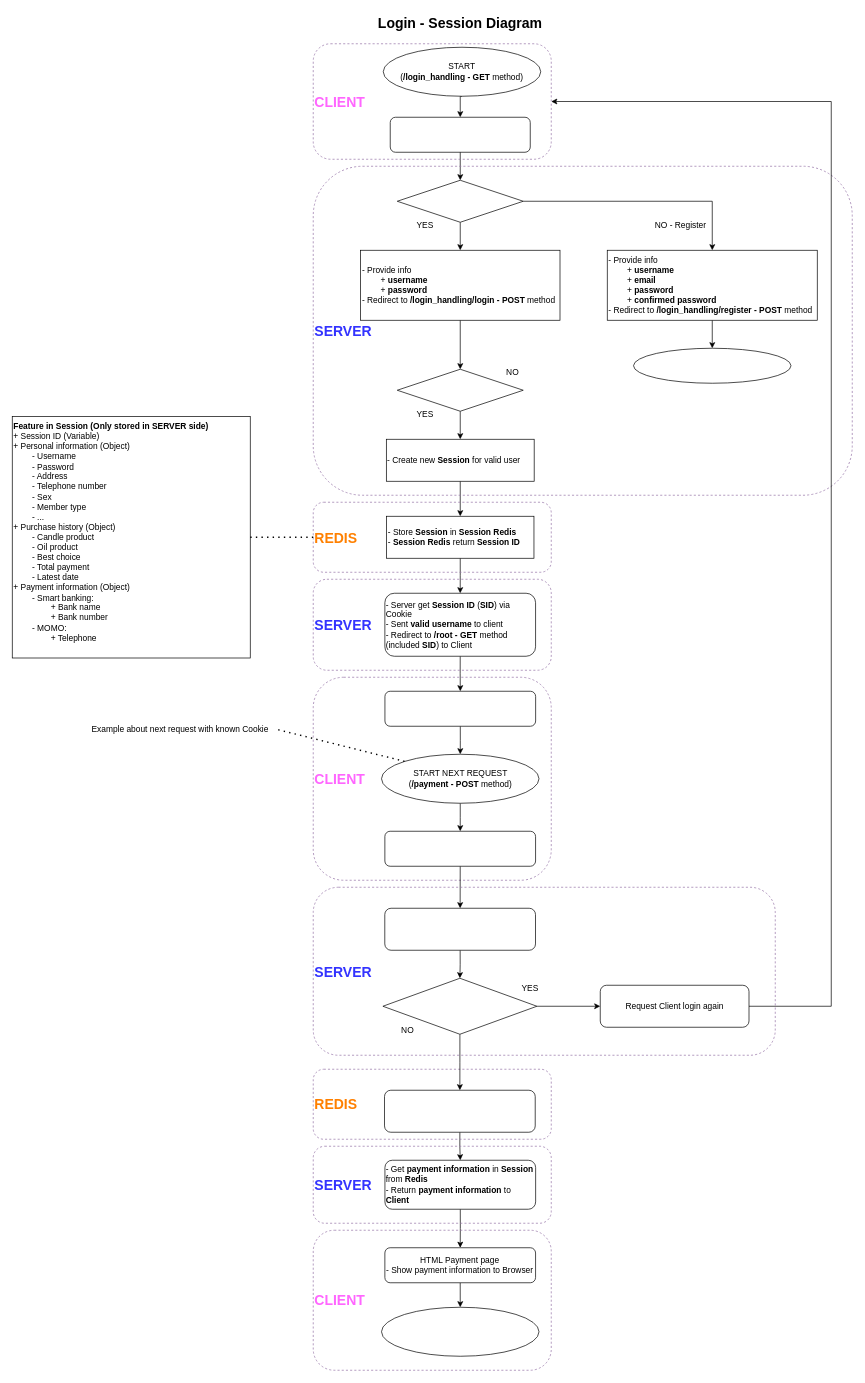
Some shapes in this 865 by 1383 pixel diagram are drawn without their labels. Here are the shapes that lost their labels. From the top down, the box of each, then its label:
(390, 117, 530, 152): HTML Login Page
(397, 180, 523, 222): is Login ?
(633, 348, 791, 383): Switch to Register Logic
(397, 369, 523, 411): is Valid in Database ?
(384, 691, 536, 726): HTML Home page (with valid username and SID in Cookie)
(384, 831, 536, 866): HTML Payment page - Request Server return payment information
(384, 908, 536, 950): - Get SID from Cookie in Client - Send SID to Redis and get session information
(382, 978, 537, 1034): is Session timeout ?
(384, 1090, 535, 1132): - Find SID and return Session information to Server
(381, 1307, 539, 1356): STOP Waiting for next request
